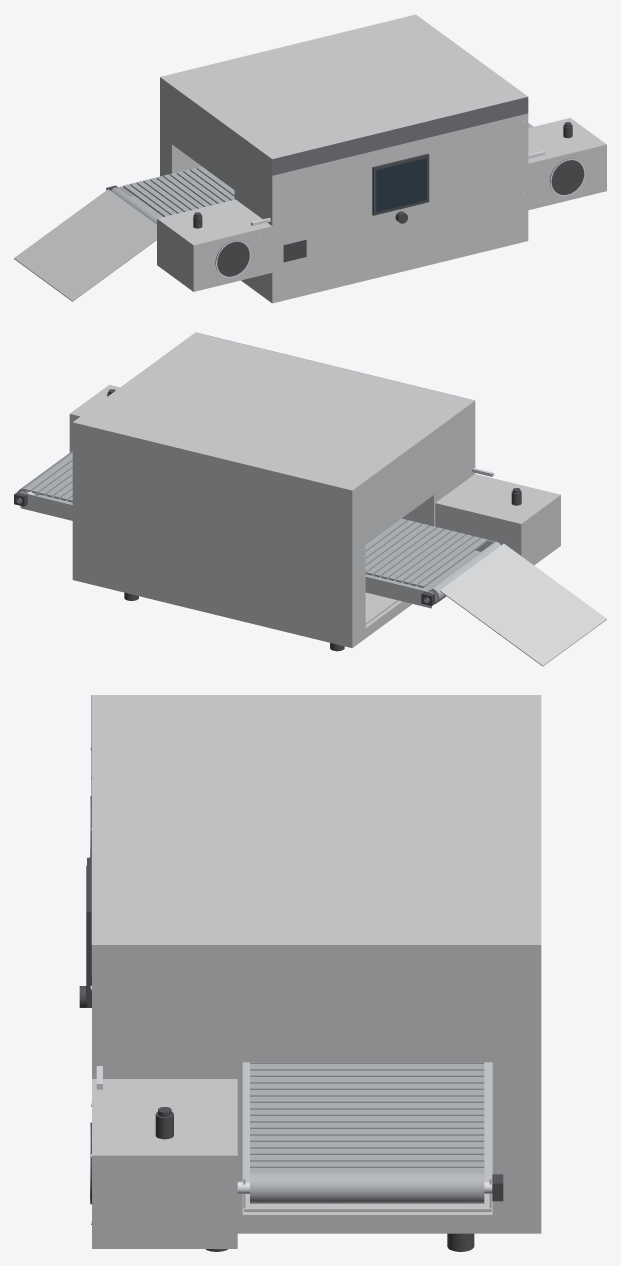
File: firin_tp10_v1.glb
3 views of the same model, one above another, from view 1: azimuth 30°, elevation 25°; view 2: azimuth 150°, elevation 25°; view 3: azimuth 270°, elevation 25° (orthographic). The views are drawn at different scales.
Visible parts, largest first — view 1: TP10__F_TP10_GOVDE__paslanmaz, TP10__F_TP10_PLAKA__paslanmaz, TP10__F_TP10_GOVDE__grafit, TP10__F_TP10_KONVEYOR__tel_bant, TP10__F_TP10_GOVDE__koyu, TP10__F_TP10_GOVDE__ekran, TP10__F_TP10_GOVDE__celik; view 2: TP10__F_TP10_GOVDE__paslanmaz, TP10__F_TP10_PLAKA__paslanmaz, TP10__F_TP10_KONVEYOR__tel_bant, TP10__F_TP10_KONVEYOR__paslanmaz; view 3: TP10__F_TP10_GOVDE__paslanmaz, TP10__F_TP10_KONVEYOR__tel_bant, TP10__F_TP10_GOVDE__koyu, TP10__F_TP10_KONVEYOR__paslanmaz.
Part boxes in pixels (x1,y1,x2,y2): TP10__F_TP10_GOVDE__paslanmaz: [157, 14, 606, 303]; TP10__F_TP10_PLAKA__paslanmaz: [14, 189, 156, 301]; TP10__F_TP10_GOVDE__grafit: [272, 97, 528, 175]; TP10__F_TP10_KONVEYOR__tel_bant: [111, 123, 533, 224]; TP10__F_TP10_GOVDE__koyu: [193, 122, 583, 276]; TP10__F_TP10_GOVDE__ekran: [376, 158, 426, 212]; TP10__F_TP10_GOVDE__celik: [205, 120, 594, 283]; TP10__F_TP10_GOVDE__paslanmaz: [69, 332, 560, 647]; TP10__F_TP10_PLAKA__paslanmaz: [440, 543, 606, 666]; TP10__F_TP10_KONVEYOR__tel_bant: [17, 451, 501, 603]; TP10__F_TP10_KONVEYOR__paslanmaz: [20, 492, 494, 608]; TP10__F_TP10_GOVDE__paslanmaz: [92, 695, 541, 1248]; TP10__F_TP10_KONVEYOR__tel_bant: [250, 1062, 484, 1203]; TP10__F_TP10_GOVDE__koyu: [79, 796, 173, 1204]; TP10__F_TP10_KONVEYOR__paslanmaz: [243, 1062, 491, 1208].
Size of the model in its own units: 1.86 by 0.599 by 0.75.
